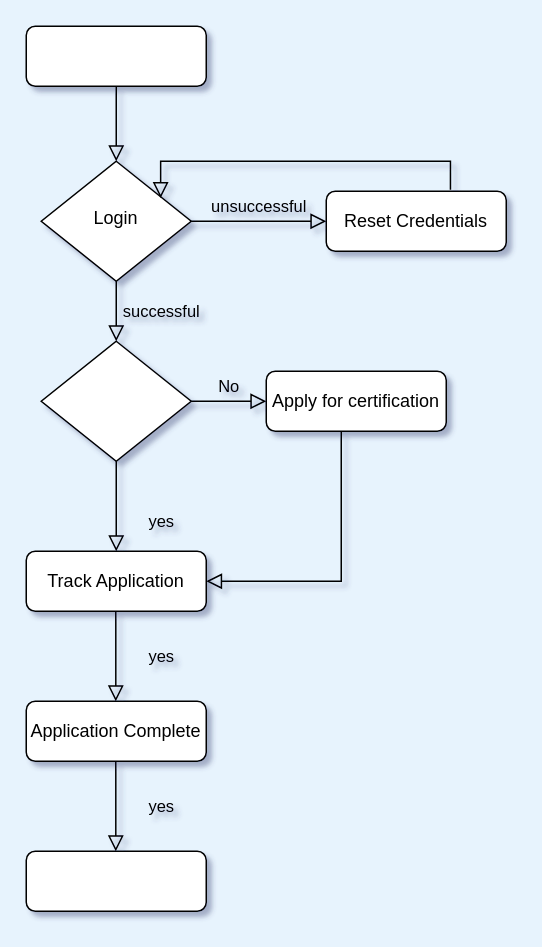
The diagram is 542 pixels wide and 947 high, and some of its shapes have lost their labels. The shapes that lost their labels are listed below. From the top down, each one's centre as x and y in pixels, then its label:
point (115, 55): Sign up in case you are new
point (115, 400): If applied for certification
point (115, 880): Download Certificate
